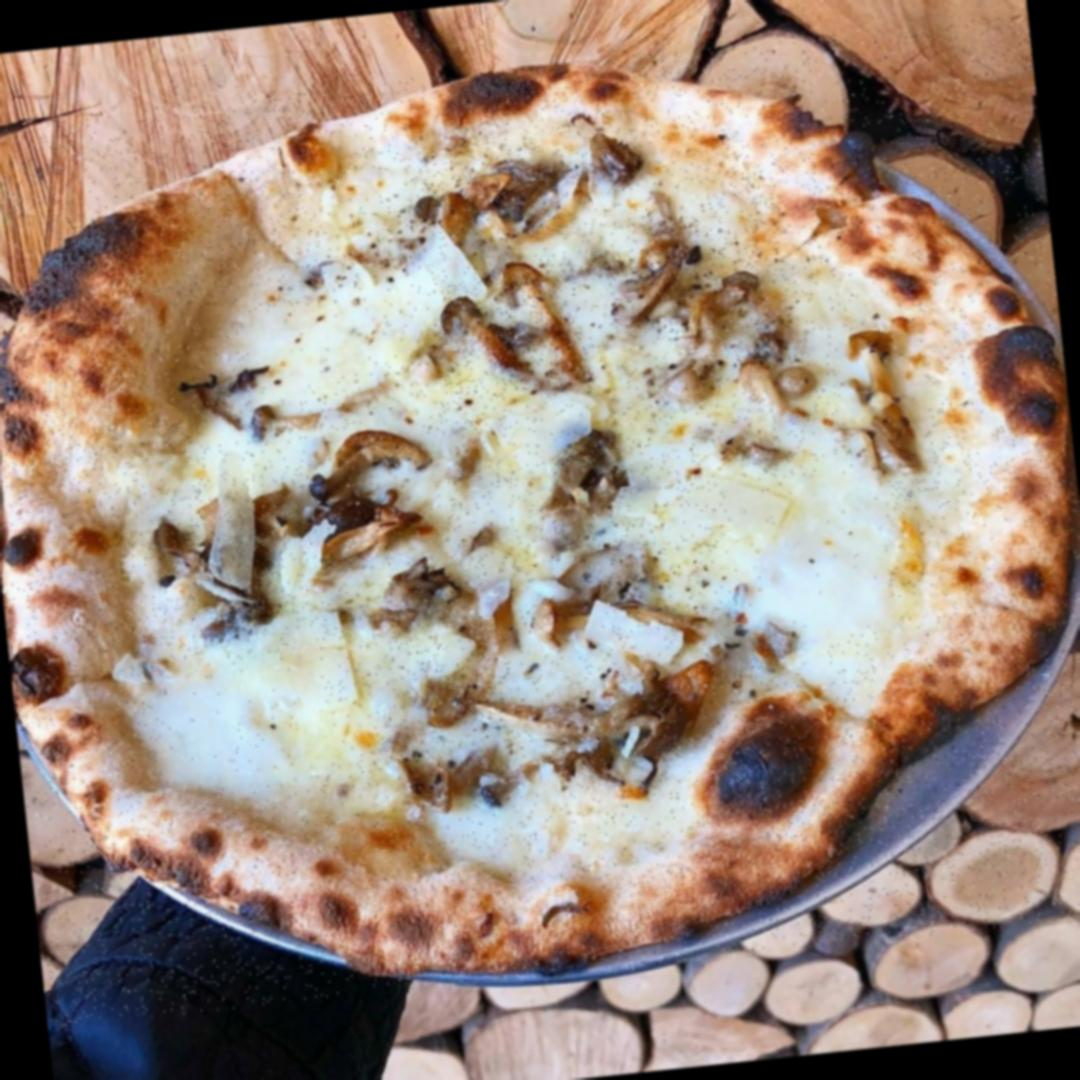Cheese: (730, 473, 892, 647), (165, 650, 334, 790), (242, 302, 378, 402)
Mushroom: (428, 128, 646, 248), (475, 676, 694, 787), (432, 261, 595, 398), (304, 414, 451, 564), (156, 488, 296, 634), (618, 228, 770, 357), (384, 565, 514, 712), (838, 323, 931, 474), (545, 414, 638, 523), (529, 575, 602, 645)
Pizza: (0, 15, 1080, 1029)
